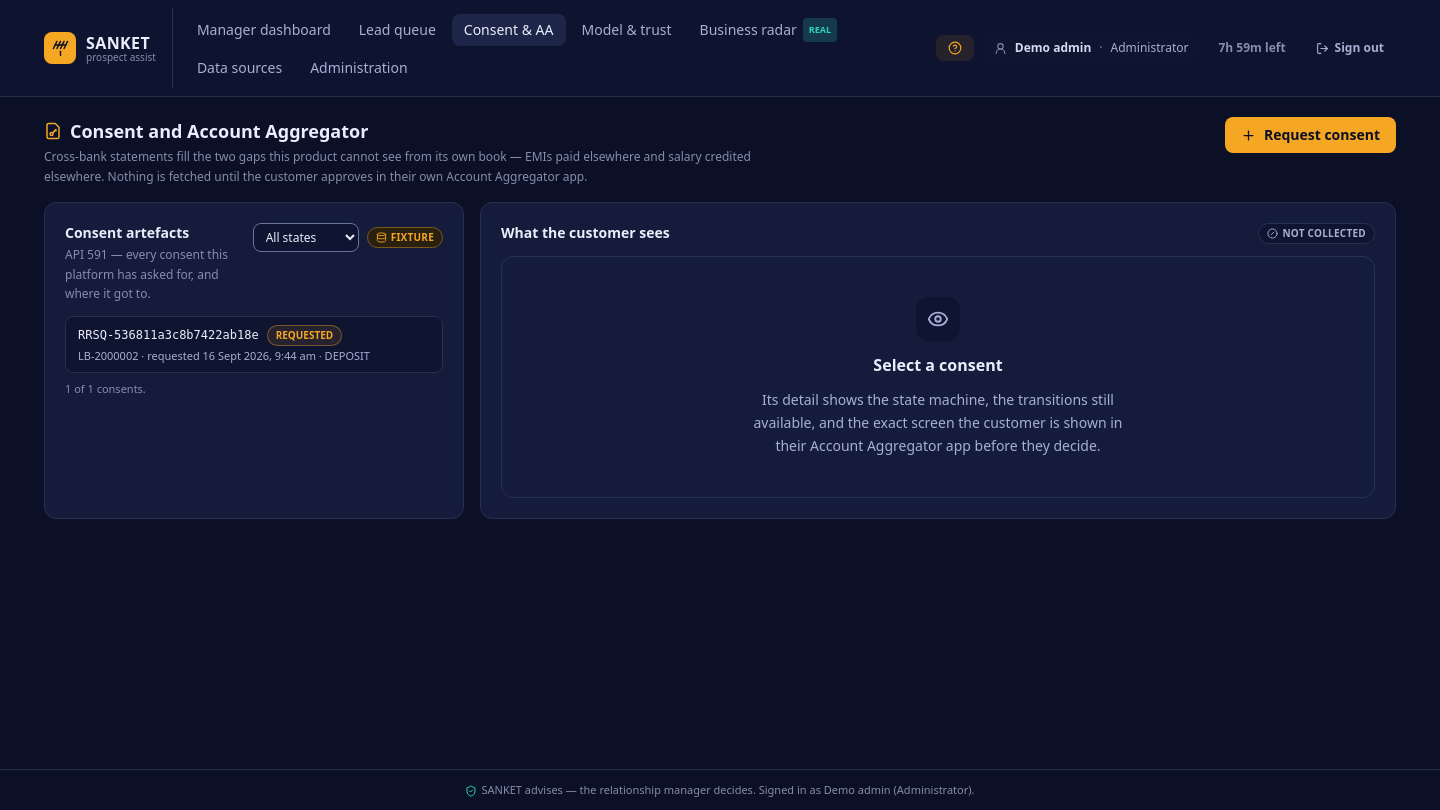
Test case: Consent — the admin-only replay › is offered to an administrator and explains what the audit will say
This screenshot has width=1440, height=810.
Step 1. Click the text "RRSQ-536811a3c8b7422ab18e" → [168, 335], box [78, 327, 259, 343]
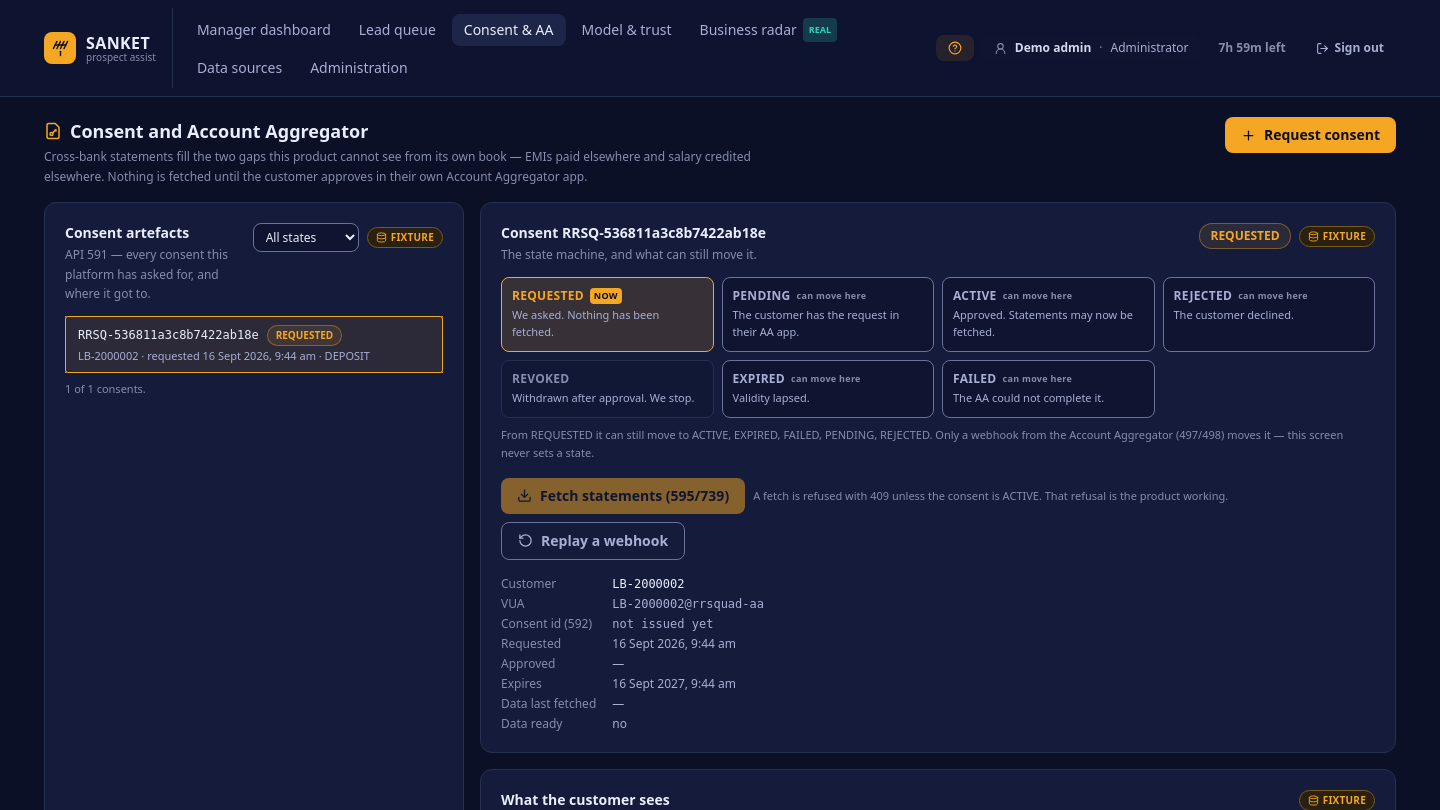
Step 2. Click the button with test id "consent-replay-open" → [593, 541], box [501, 522, 685, 560]
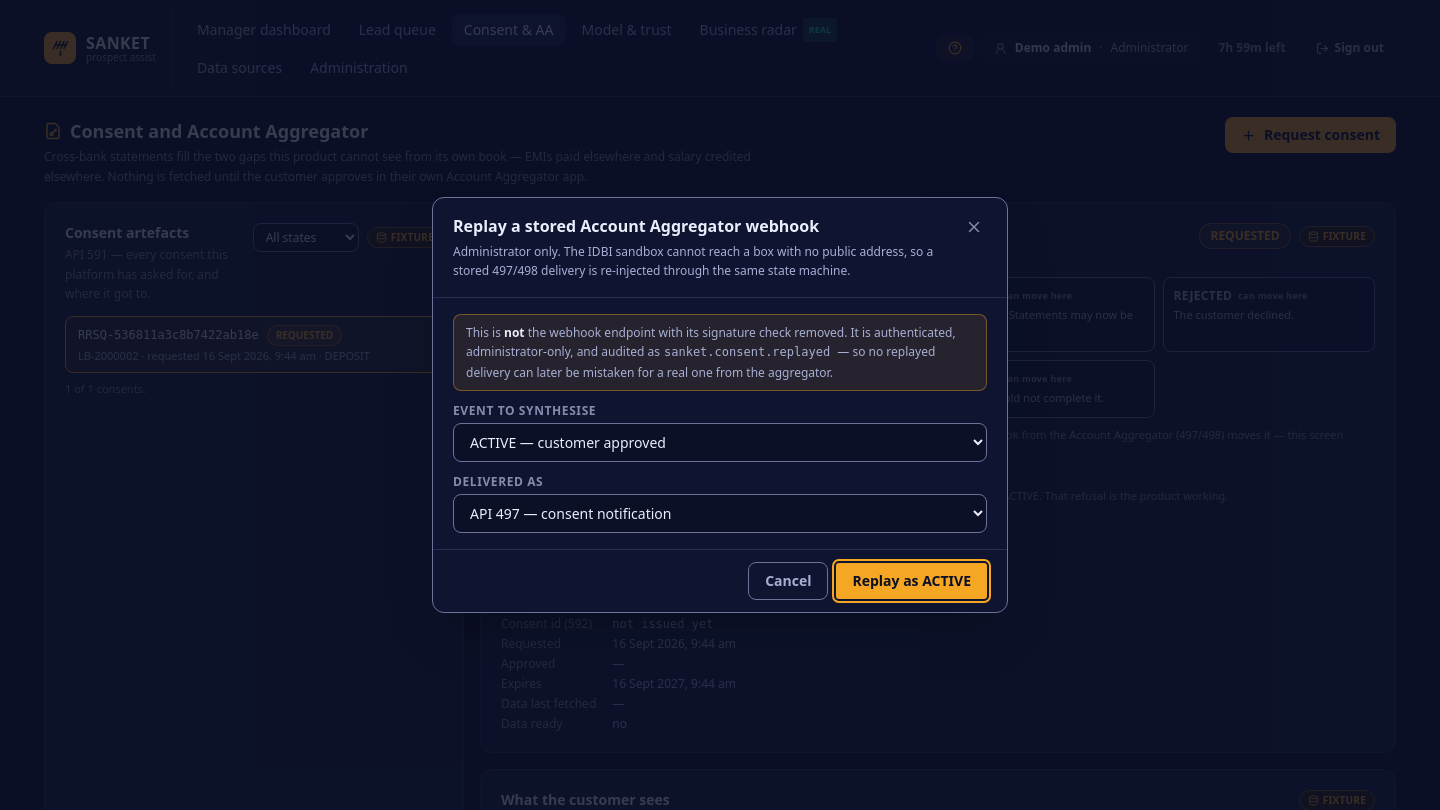
Now the element with test id "consent-replay-dialog" shows "not the webhook endpoint with its signature check removed"
Now the element with test id "consent-replay-dialog" shows "sanket.consent.replayed", box [664, 345, 830, 359]
